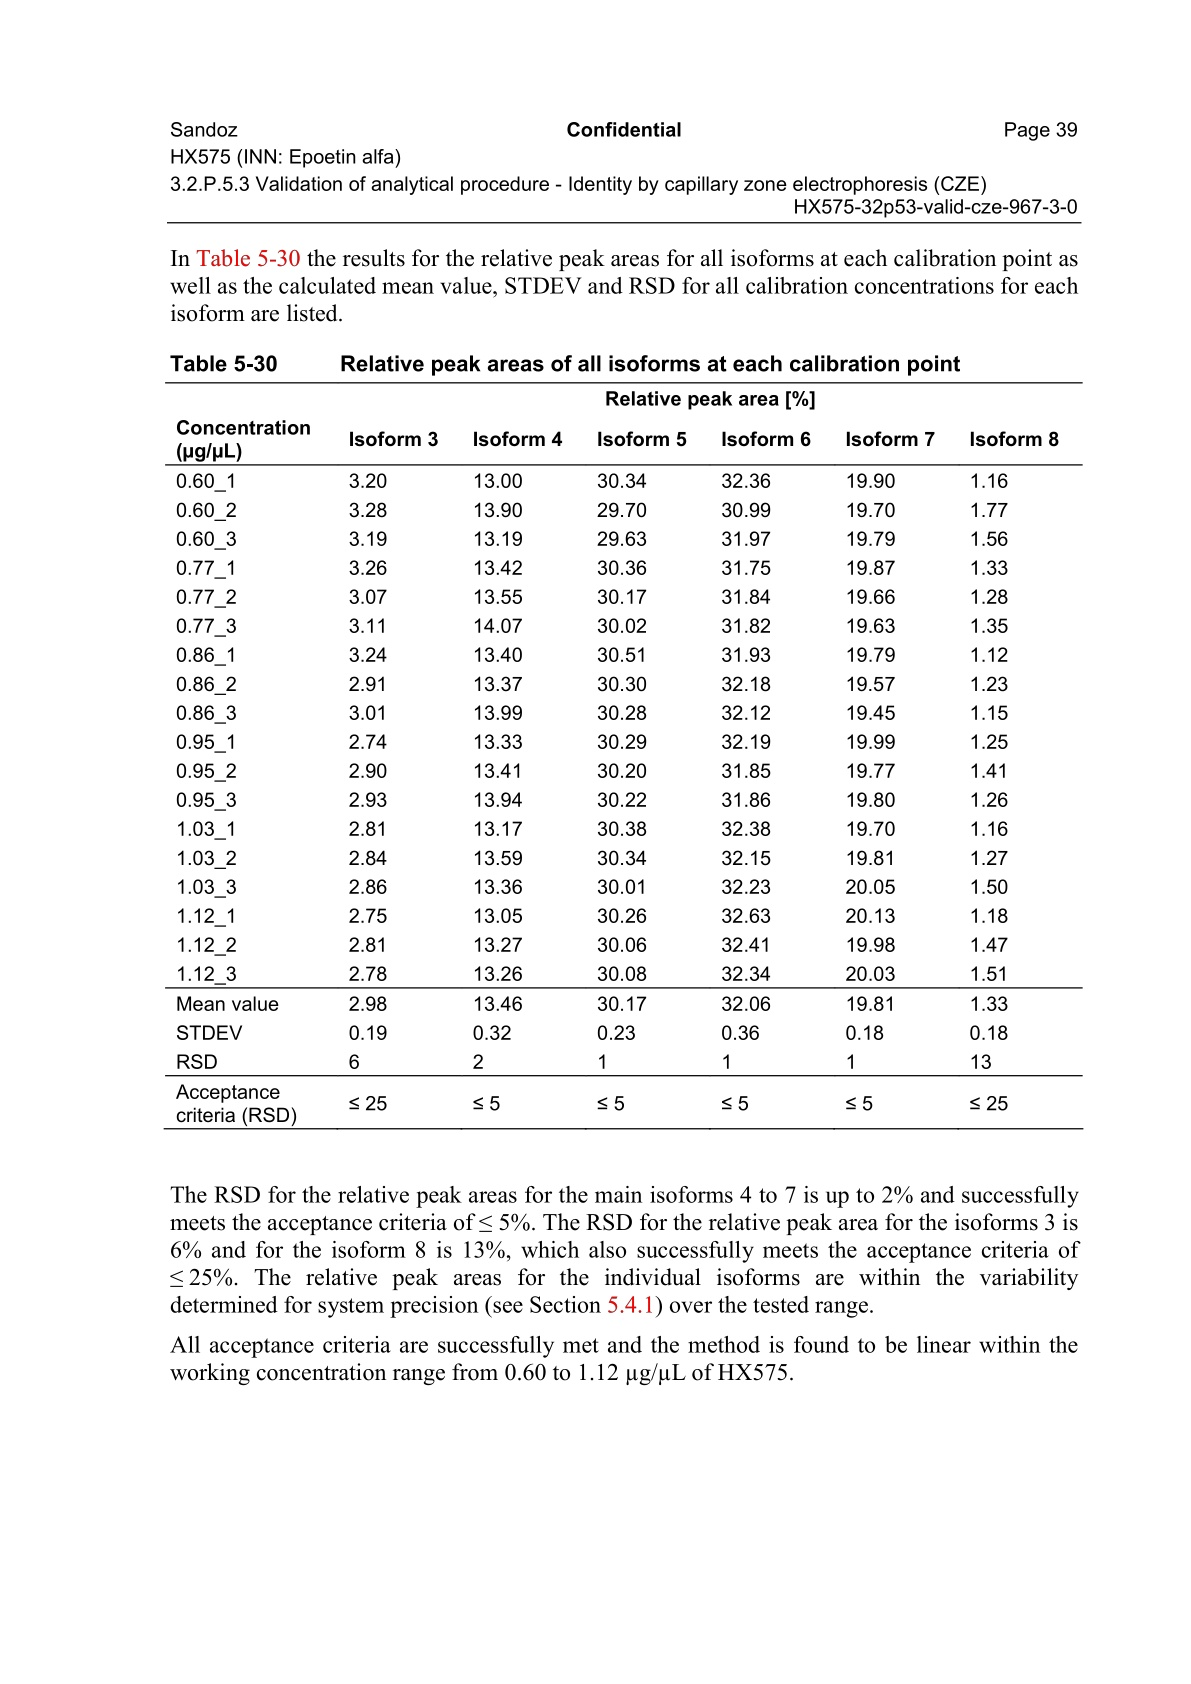partial_lined_merged_cells: (164, 381, 1084, 1130)
